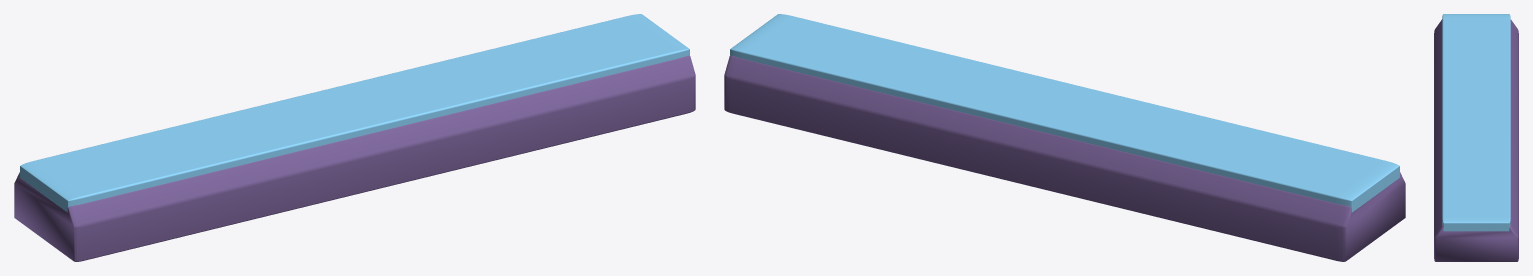
3 views of the same model, side by side, from view 1: azimuth 30°, elevation 25°; view 2: azimuth 150°, elevation 25°; view 3: azimuth 270°, elevation 25° (orthographic). The views are drawn at different scales.
Visible parts, largest first — view 1: Cube.005, Plane.002; view 2: Cube.005, Plane.002; view 3: Plane.002, Cube.005.
Boxes of the visible parts, bbox=[...] form: Cube.005: bbox=[14, 55, 695, 261]; Plane.002: bbox=[20, 14, 689, 212]; Cube.005: bbox=[724, 55, 1405, 261]; Plane.002: bbox=[730, 14, 1399, 212]; Plane.002: bbox=[1442, 14, 1510, 231]; Cube.005: bbox=[1434, 19, 1518, 261].
Bounding box in the file's own units: 776 × 70.78 × 133.
